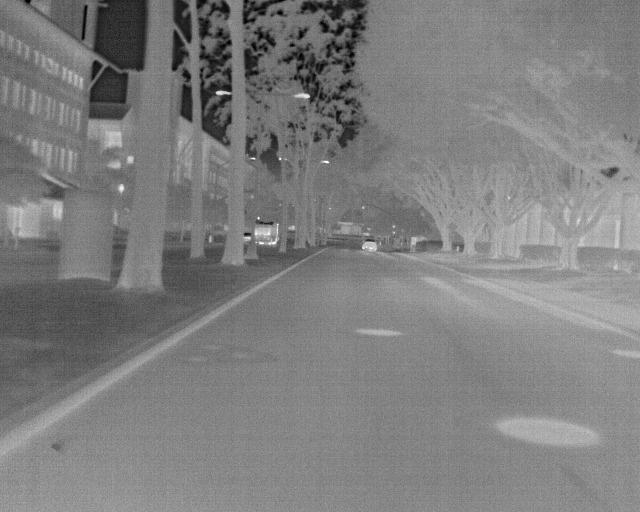car: (254, 218, 282, 249), (360, 236, 378, 253)
